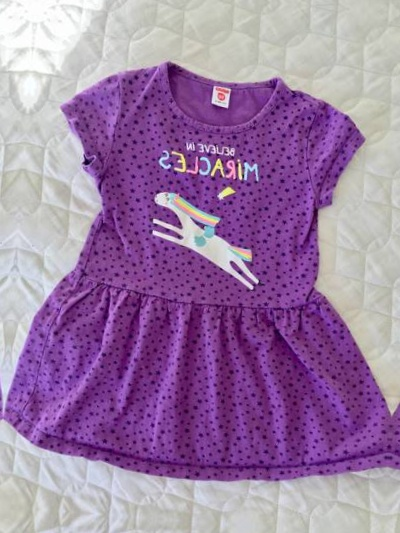Dress: (0, 58, 400, 493), (0, 27, 32, 462), (390, 89, 400, 524)
